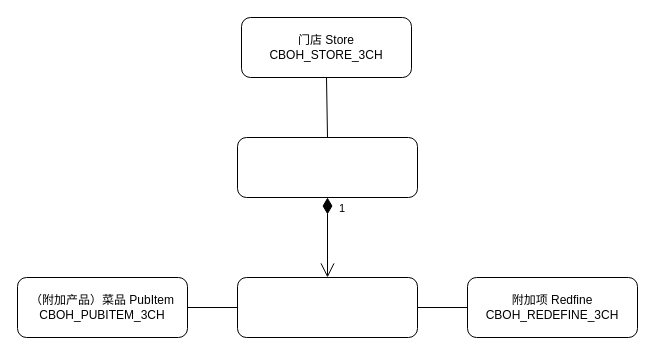
This 655x355 diagram has some shape labels left out. The shapes that lost their labels are listed below. From the top down, each one's centre as x and y in pixels, then its label:
At [327,167]: "附加项方案 AdditionProg CBOH_ADDITIONALPROG_3CH".
At [327,307]: "附加项方案明细 AdditionProgDtl CBOH_ADDITIONALPROGDTL_3CH".
